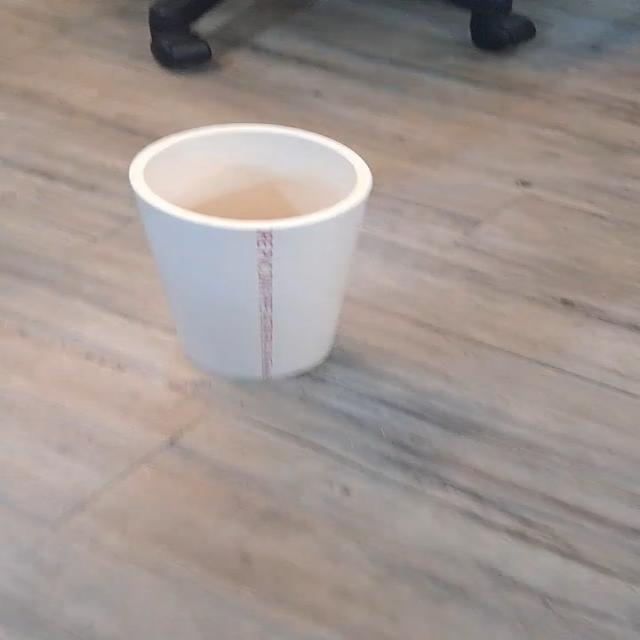CORAL: (122, 119, 383, 386)
